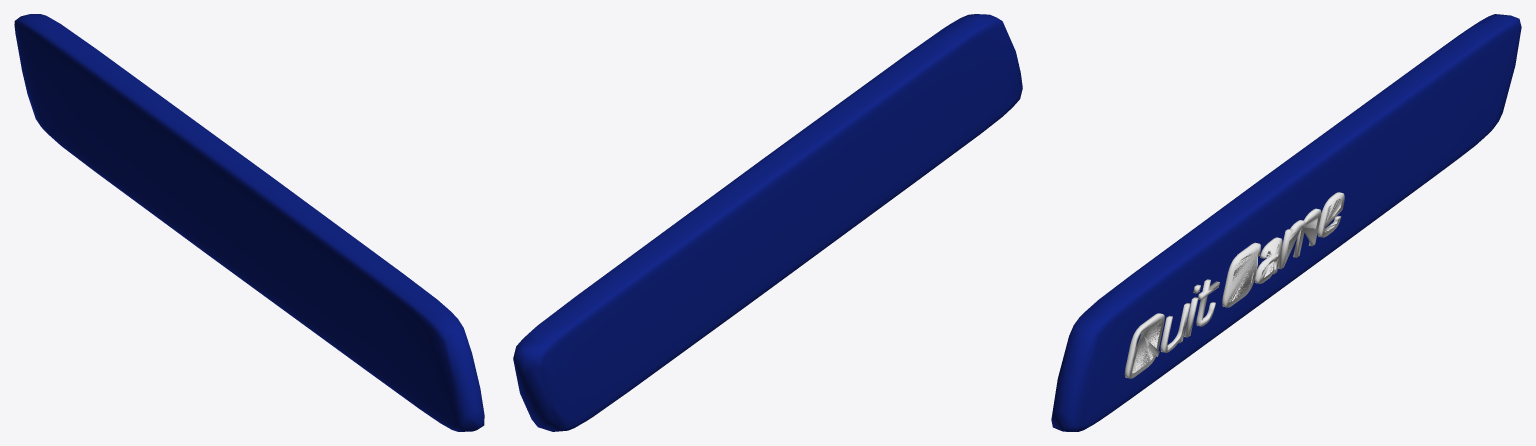
The model's file is QuitGame.fbx.
The picture shows the model from 3 angles, left to right: view 1: azimuth 30°, elevation 25°; view 2: azimuth 150°, elevation 25°; view 3: azimuth 330°, elevation 25°; orthographic projection. The views are drawn at different scales.
Parts seen in each view (by area): view 1: Button; view 2: Button; view 3: Button, Text.
Boxes of the visible parts, x1,y1,x2,y2 form: Button: [14, 14, 484, 431]; Button: [513, 14, 1022, 431]; Button: [1051, 14, 1521, 431]; Text: [1124, 192, 1344, 378].
Size of the model in its own units: 0.5827 by 1.71 by 13.61.
